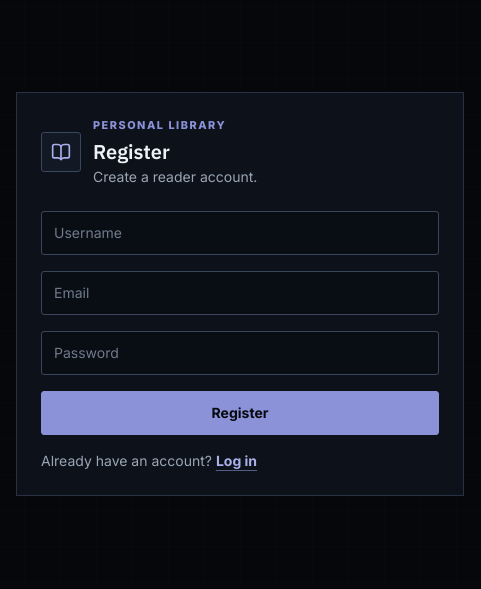
Test case: RegisterPage › keeps password focus when submitting from the password field with form errors
Click the password field with placeholder "Password".
click(240, 353)  # box [41,331,439,375]
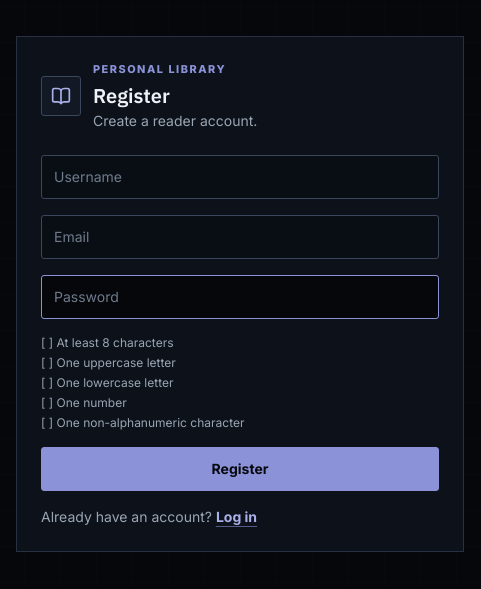
Type "weak" into the password field with placeholder "Password".
click(240, 297); type("weak")  # box [41,275,439,319]
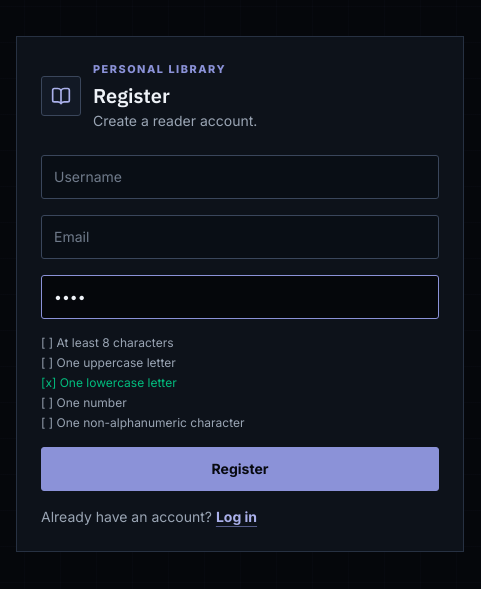
Click the button "Register".
click(240, 469)  # box [41,447,439,491]
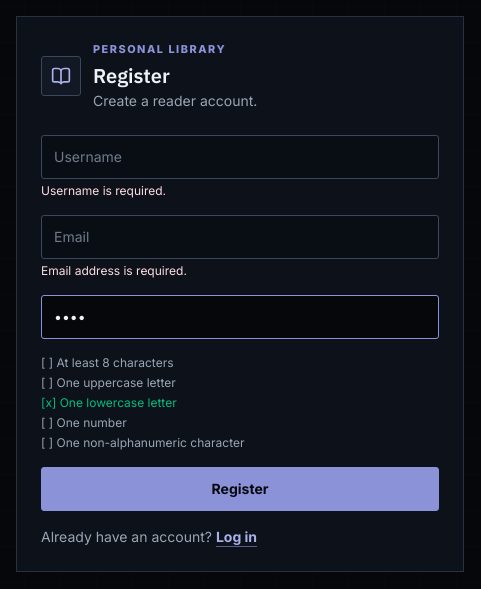
expect the list item with aria-label "Missing: At least 8 characters" is shown: met, box [41,355,174,370]
expect the text "Username is required." is shown: met, box [41,183,166,198]
expect the text "Email address is required." is shown: met, box [41,263,187,278]
